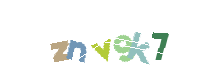7: (120, 0, 200, 80)
9: (64, 0, 144, 80)
K: (87, 0, 167, 80)
N: (37, 0, 117, 80)
V: (63, 0, 143, 80)
Z: (21, 0, 101, 80)
